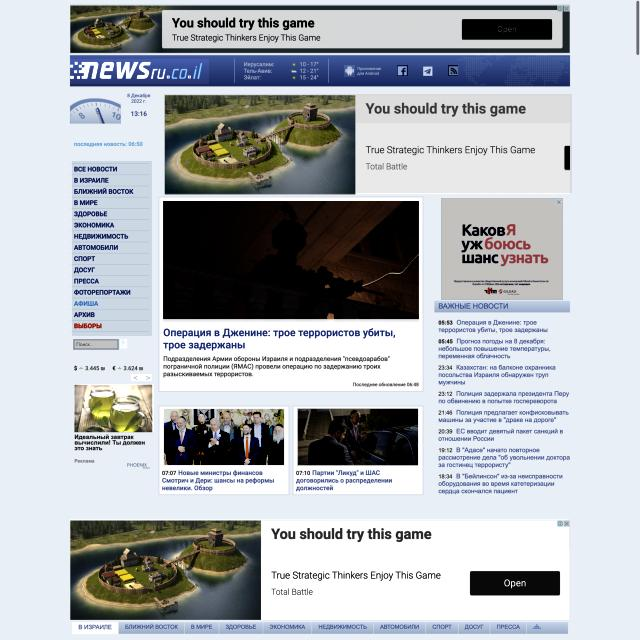CheckBox: (462, 19, 552, 40)
CheckedTextView: (73, 339, 119, 350)
ImageView: (70, 519, 569, 620), (164, 94, 572, 193), (70, 4, 570, 54), (441, 198, 563, 300)
breadcrumbs: (163, 326, 398, 354)
carousel: (344, 65, 355, 77), (397, 65, 408, 76), (448, 65, 458, 76), (423, 66, 433, 76), (120, 340, 127, 350)
copy: (163, 202, 419, 322), (297, 408, 418, 466), (164, 409, 284, 465), (74, 384, 154, 432)
data feed: (493, 22, 521, 36), (77, 342, 95, 348)
date picker: (70, 59, 209, 84)
decoration: (72, 161, 152, 336), (131, 374, 152, 381)
